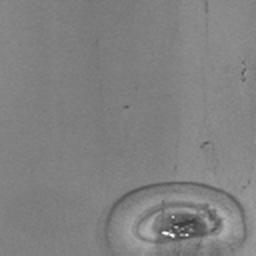Slag inclusion: (104, 180, 248, 253), (132, 200, 224, 244)
